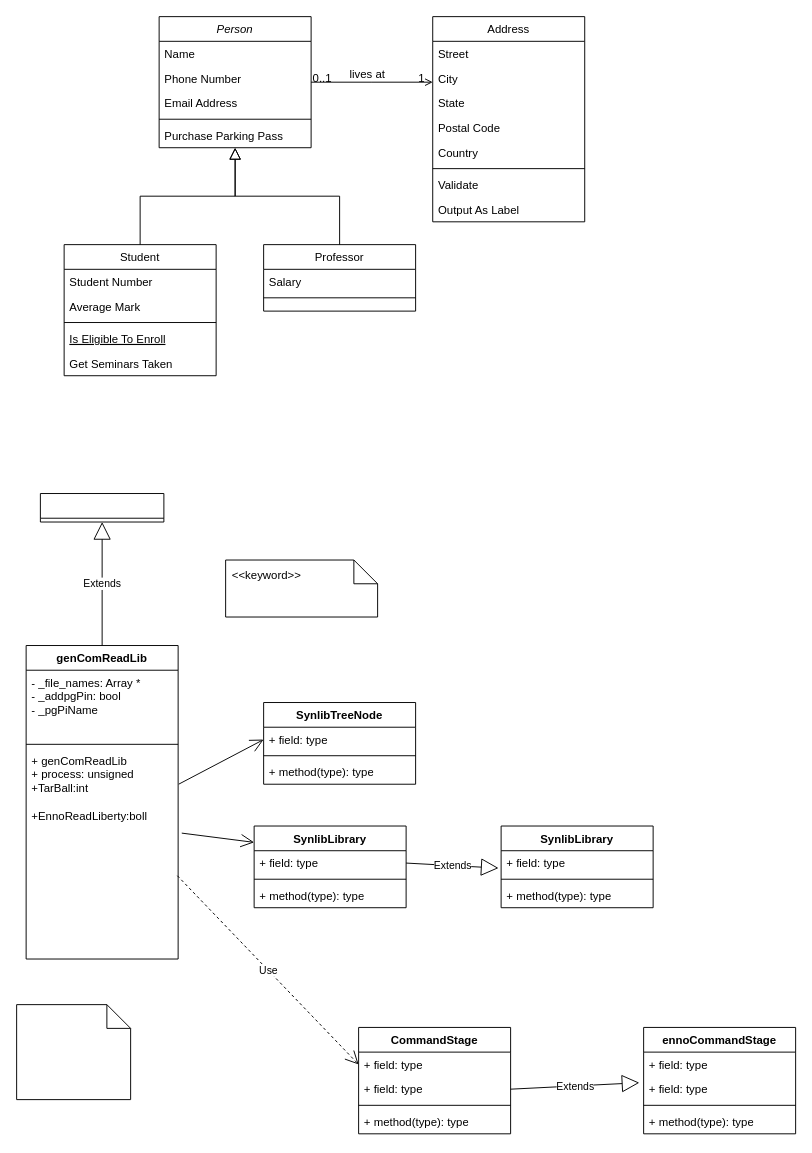
The diagram is 812 pixels wide and 1153 high, and some of its shapes have lost their labels. Each missing label, with the centre of its shape:
"Constraint1 specification" belongs at (301,588).
"ennoComRead" belongs at (101,507).
"EnnoReadLiberty实现读取调用verific读取lib文件" belongs at (73,1052).
